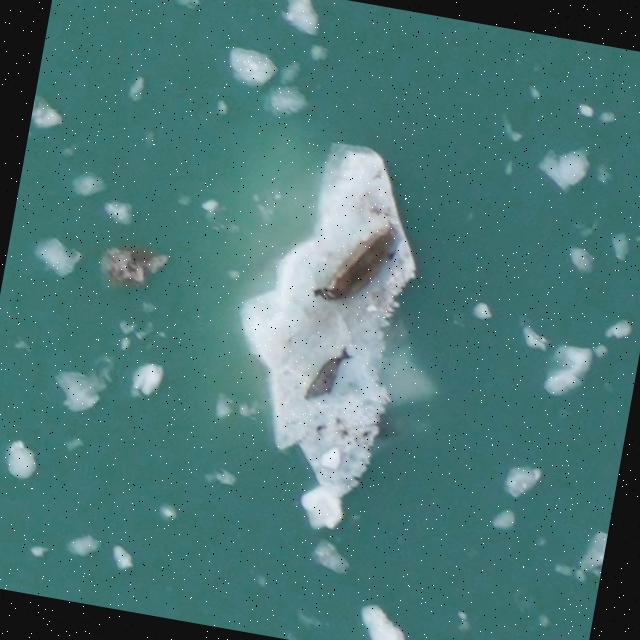seal: (310, 217, 409, 319), (296, 344, 360, 410)
